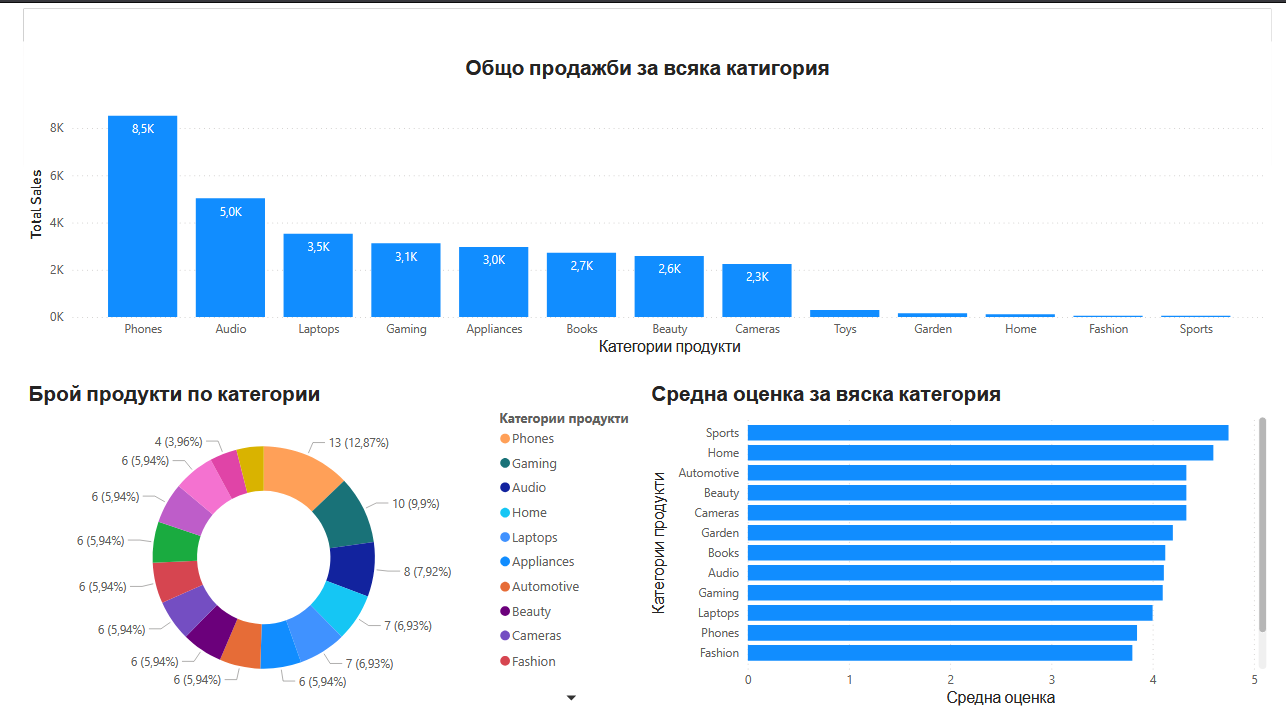

The dashboard page shown, as its layout file describes it:
{"tool":"powerbi","page":{"name":"Page 1","canvas":[1280,720],"ordinal":0},"visuals":[{"type":"donutChart","title":"Брой продукти по категории","fields":{"Category":["CATEGORY.CATEGORY_NAME"],"Y":["CountNonNull(PRODUCT.PRODUCT_ID)"]},"box":[0,384.2,639.5,336.2],"z":0},{"type":"columnChart","title":"Общо продажби за всяка катигория","fields":{"Category":["CATEGORY.CATEGORY_NAME"],"Y":["select","CATEGORY.Running sum 1"]},"box":[0,49.4,1280.3,310.1],"z":1000},{"type":"barChart","title":"Средна оценка за вяска категория","fields":{"Category":["CATEGORY.CATEGORY_NAME"],"Y":["Avg(REVIEW.RATING)"]},"box":[639,384,641,336],"z":2000}]}

Visuals, with their boxes in screenshot pixels (x1, y1, x2, y2), scaled from the page's 1280x720 canvas onto the 1286x728 screenshot:
"Брой продукти по категории" donutChart: 0 388 642 727
"Общо продажби за всяка катигория" columnChart: 0 50 1285 363
"Средна оценка за вяска категория" barChart: 642 388 1285 727
